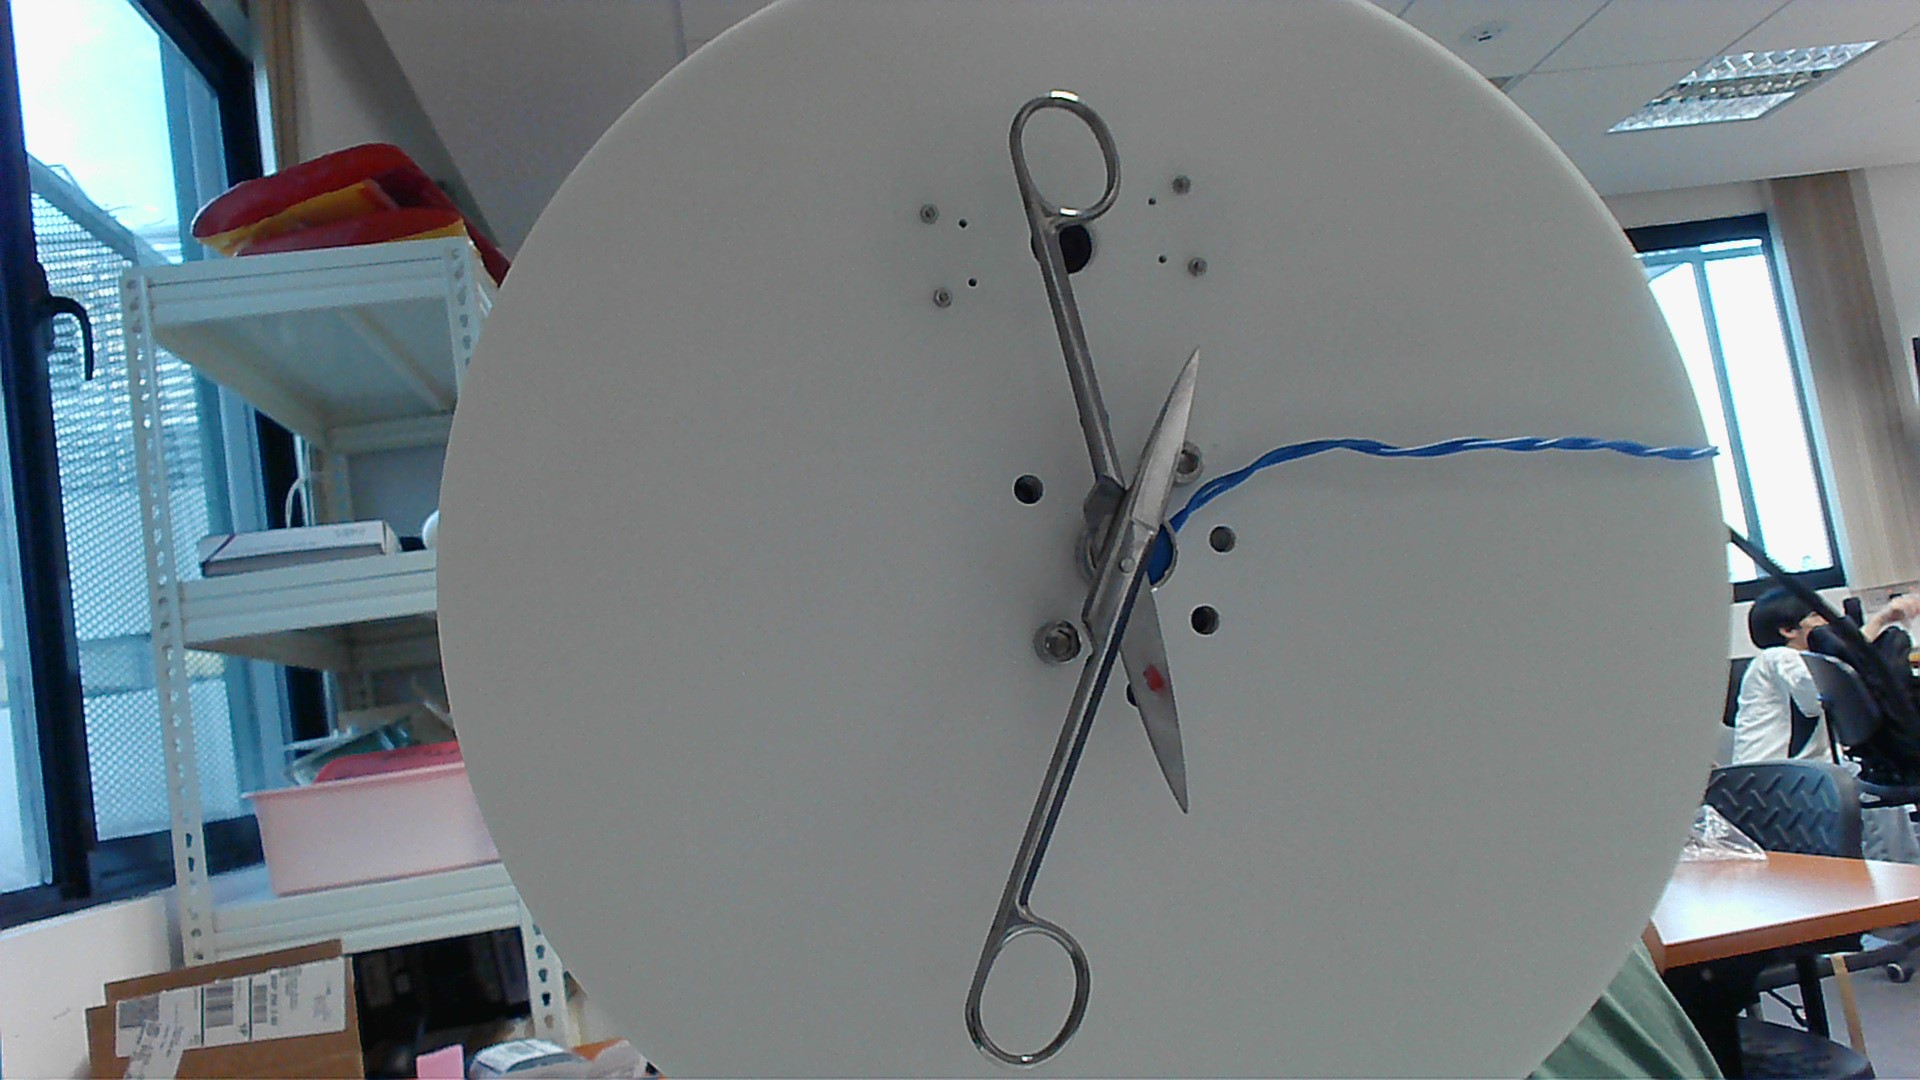Stain: (1142, 663, 1172, 702)
